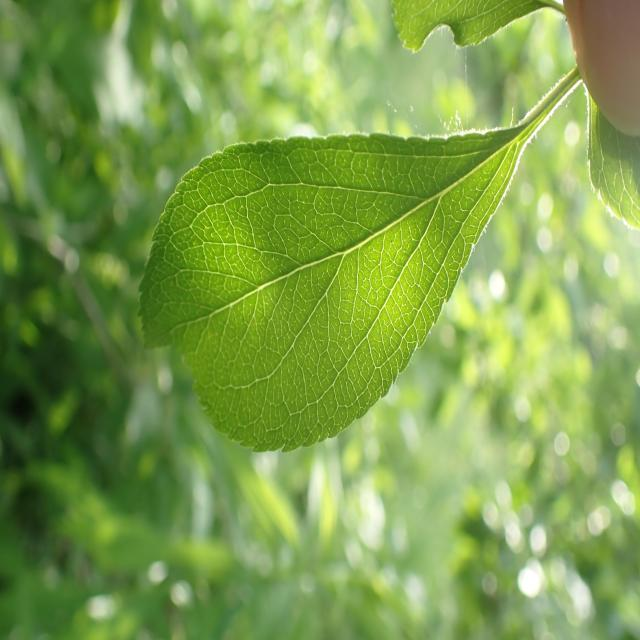healthy: (137, 126, 518, 453), (563, 0, 640, 231), (390, 0, 540, 54)
